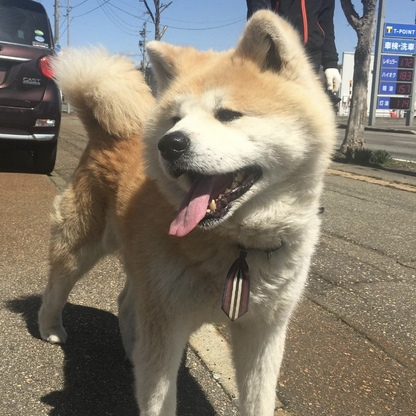akita: (19, 4, 350, 416)
